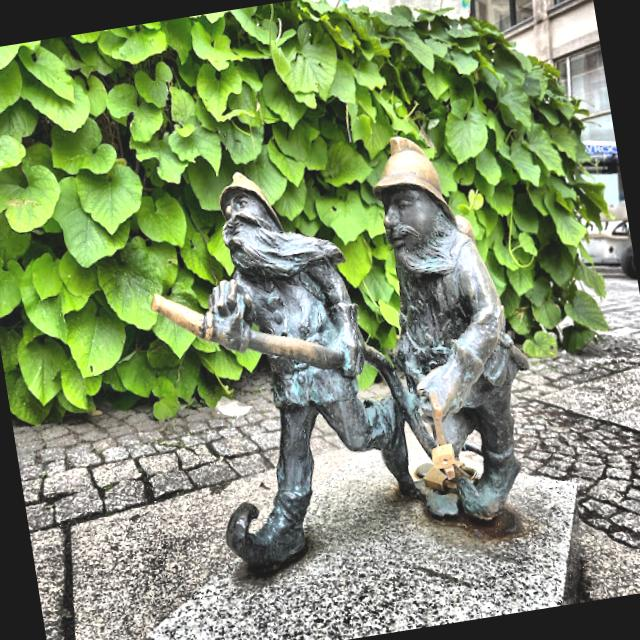Pozarki: (152, 138, 530, 573)
